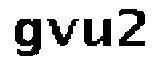2: (117, 7, 147, 52)
g: (9, 16, 45, 60)
u: (80, 17, 116, 50)
v: (47, 17, 77, 48)
